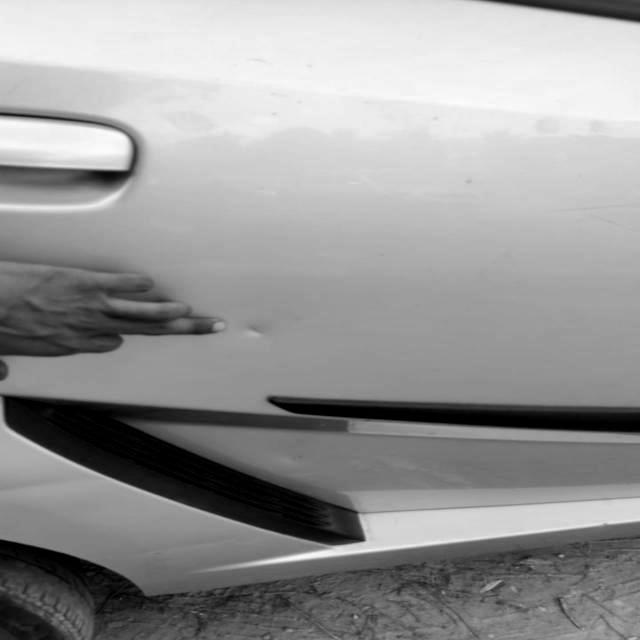doorouter-dent: (1, 9, 639, 435)
